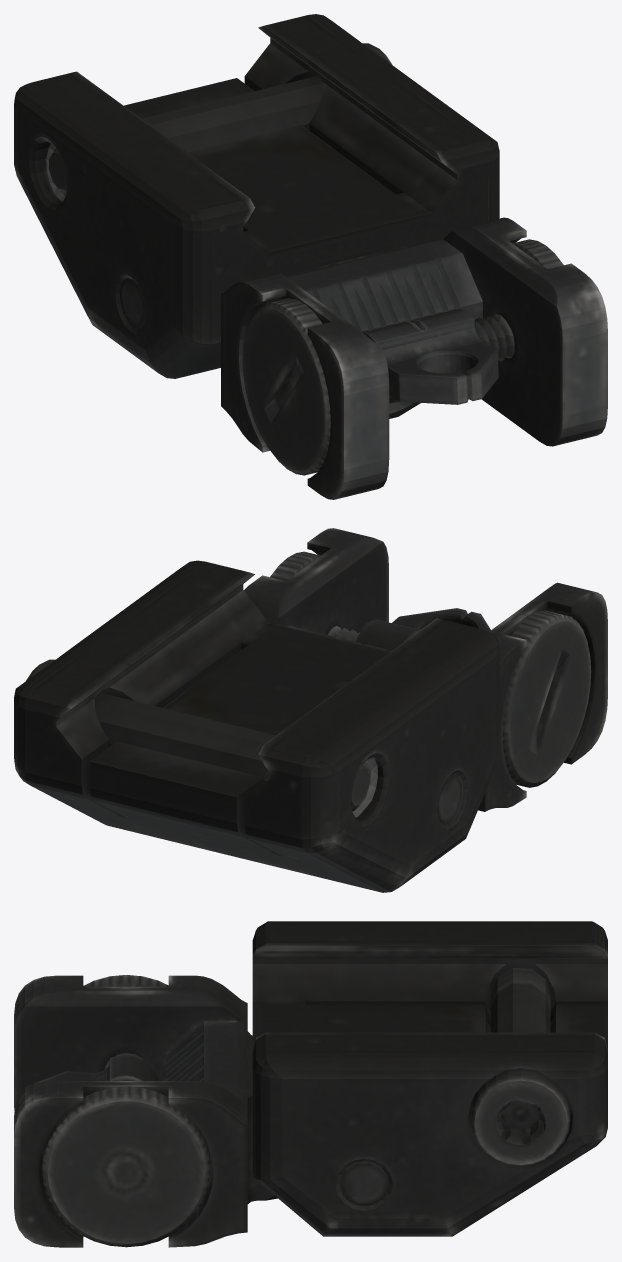
The picture shows the model from 3 angles, top to bottom: view 1: azimuth 30°, elevation 25°; view 2: azimuth 150°, elevation 25°; view 3: azimuth 270°, elevation 25°; orthographic projection. The views are drawn at different scales.
Visible parts, largest first — view 1: TW_5894a81786f77427140b8347_folded_PZ_Import; view 2: TW_5894a81786f77427140b8347_folded_PZ_Import; view 3: TW_5894a81786f77427140b8347_folded_PZ_Import.
Part boxes in pixels (box(x1,y1,x2,y2)): TW_5894a81786f77427140b8347_folded_PZ_Import: box(14, 14, 607, 499); TW_5894a81786f77427140b8347_folded_PZ_Import: box(14, 528, 607, 892); TW_5894a81786f77427140b8347_folded_PZ_Import: box(14, 921, 607, 1247).
Bounding box in the file's own units: 0.019 × 0.031 × 0.0117.
Materials: 1 (1 with a texture image).
